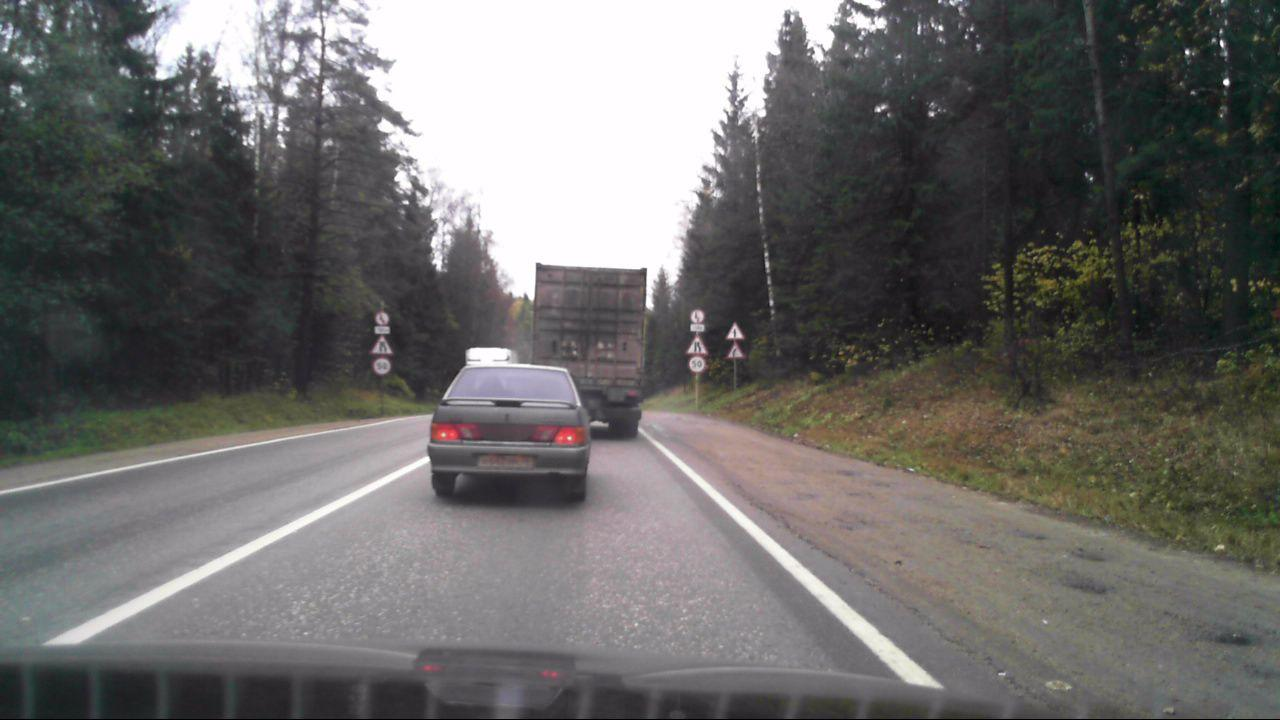1_11_1: (726, 342, 744, 360)
1_20_2: (684, 335, 710, 355), (368, 336, 394, 354)
2_3_3: (725, 322, 745, 341)
2_6: (691, 309, 705, 323), (376, 311, 391, 324)
3_24: (372, 357, 392, 375), (688, 356, 705, 372)
8_1_1: (374, 326, 391, 334), (689, 324, 706, 332)
